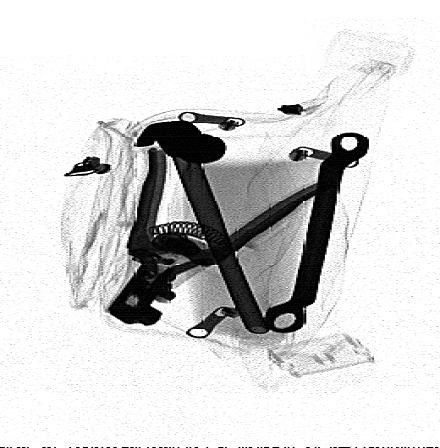Hammer: (129, 118, 270, 334)
Pliers: (98, 147, 338, 330)
Wrench: (263, 129, 371, 335)
